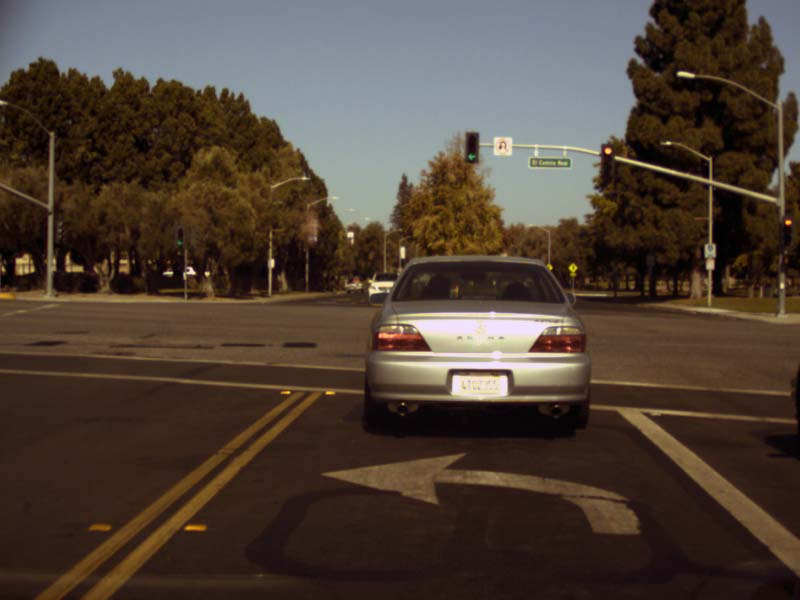Green: (465, 133, 477, 162), (177, 229, 183, 246)
Red: (602, 145, 613, 174), (782, 219, 791, 243)
